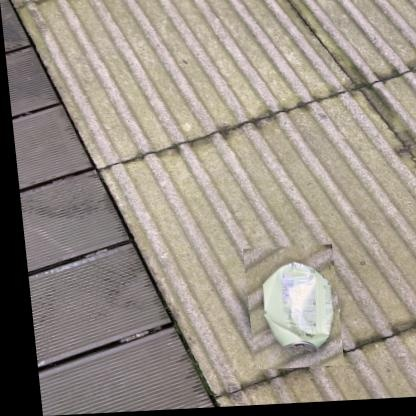trash: (263, 262, 333, 350)
